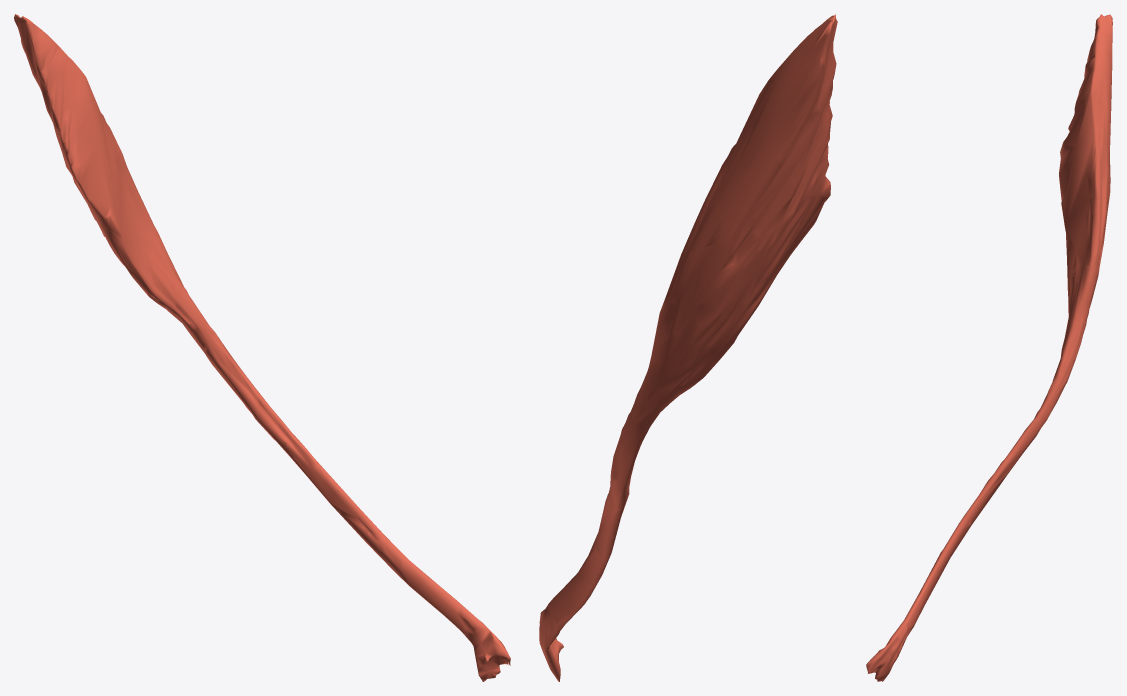
File: extensor-pollicis-brevis.glb
The picture shows the model from 3 angles, left to right: view 1: azimuth 30°, elevation 25°; view 2: azimuth 150°, elevation 25°; view 3: azimuth 270°, elevation 25°; orthographic projection. The views are drawn at different scales.
Visible parts, largest first — view 1: Extensor pollicis brevis.l; view 2: Extensor pollicis brevis.l; view 3: Extensor pollicis brevis.l.
Boxes of the visible parts, box(x1,y1,x2,y2) form: Extensor pollicis brevis.l: box(14, 14, 510, 681); Extensor pollicis brevis.l: box(539, 14, 837, 681); Extensor pollicis brevis.l: box(866, 14, 1112, 681).
Bounding box in the file's own units: 0.079 × 0.1404 × 0.0586.
